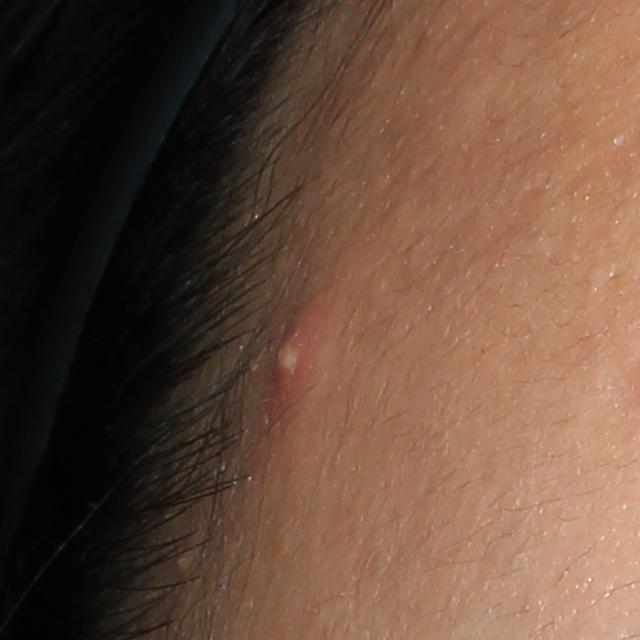pustule: (271, 299, 330, 409)
